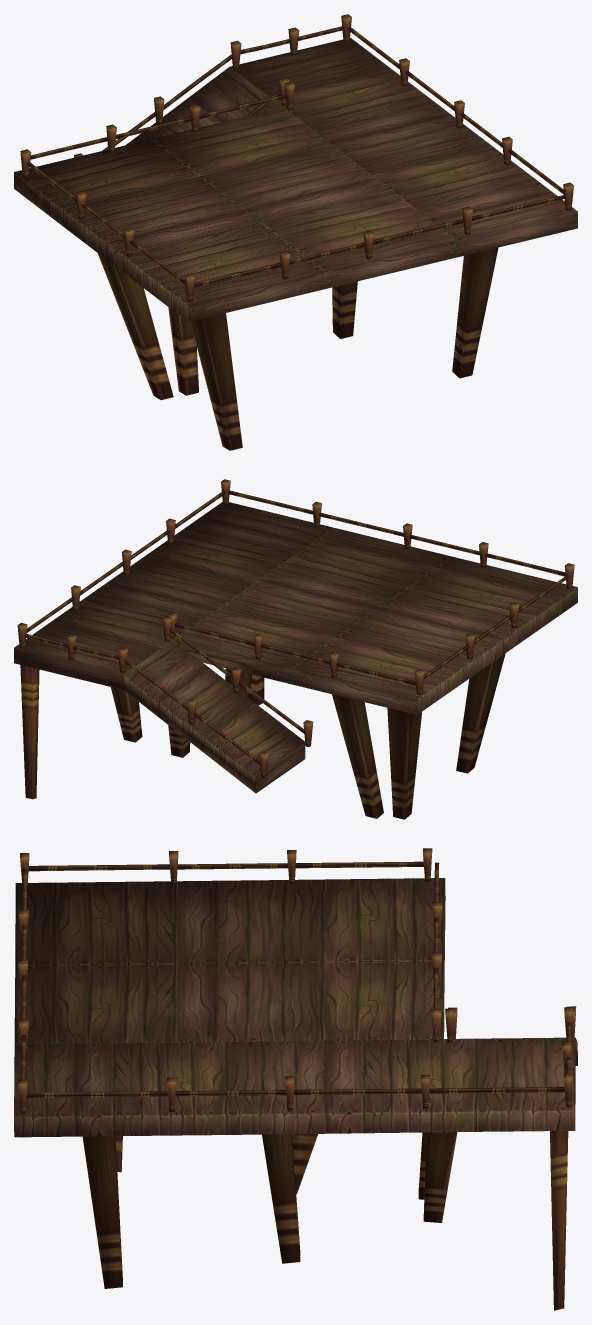
Rendered from environment_Building_luoxiapengdi_001_d.FBX.
The picture shows the model from 3 angles, top to bottom: view 1: azimuth 30°, elevation 25°; view 2: azimuth 150°, elevation 25°; view 3: azimuth 270°, elevation 25°; orthographic projection. The views are drawn at different scales.
Visible parts, largest first — view 1: environment_Building_luoxiapengdi_001_d1, environment_Building_luoxiapengdi_001_d2; view 2: environment_Building_luoxiapengdi_001_d1, environment_Building_luoxiapengdi_001_d2; view 3: environment_Building_luoxiapengdi_001_d1, environment_Building_luoxiapengdi_001_d2.
Part boxes in pixels (x1,y1,x2,y2): environment_Building_luoxiapengdi_001_d1: [14, 37, 577, 321]; environment_Building_luoxiapengdi_001_d2: [20, 14, 573, 450]; environment_Building_luoxiapengdi_001_d1: [14, 502, 577, 793]; environment_Building_luoxiapengdi_001_d2: [17, 479, 574, 819]; environment_Building_luoxiapengdi_001_d1: [14, 878, 577, 1137]; environment_Building_luoxiapengdi_001_d2: [18, 848, 576, 1310].
Bounding box in the file's own units: 1362 × 1390 × 754.
